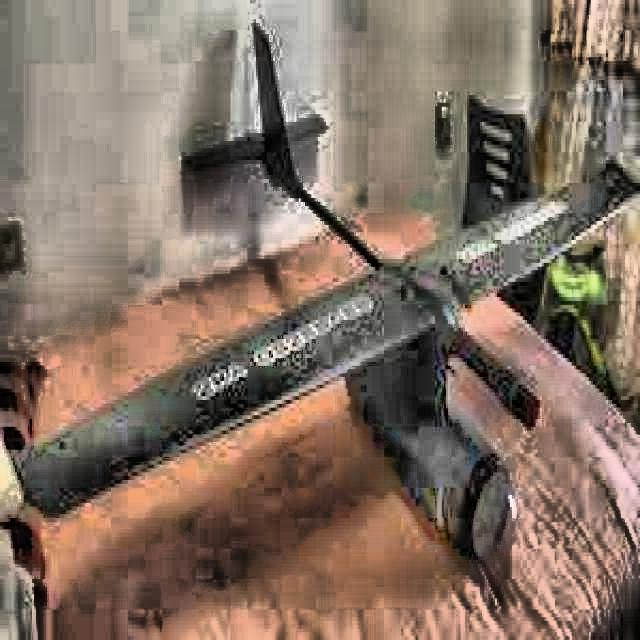iha: (1, 24, 639, 557)
